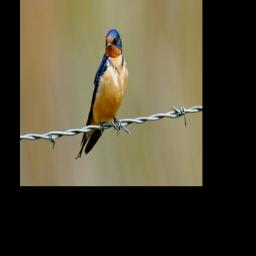Swallow: (75, 27, 129, 160)
